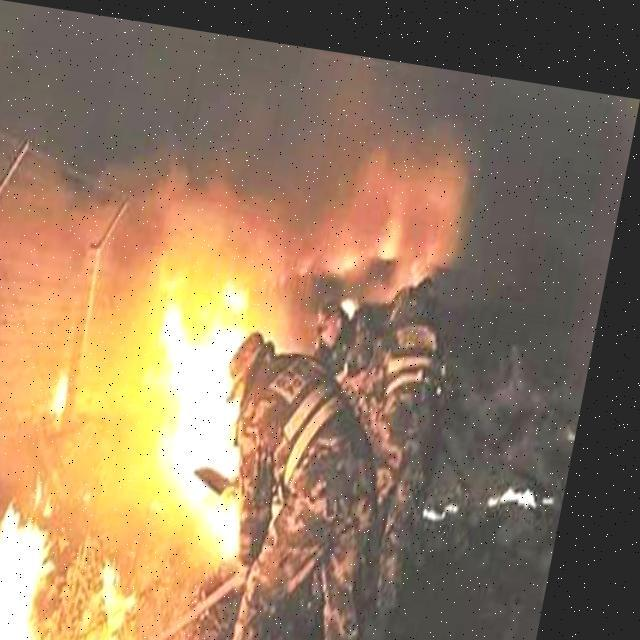Fire: (138, 242, 320, 544), (0, 481, 169, 639)
